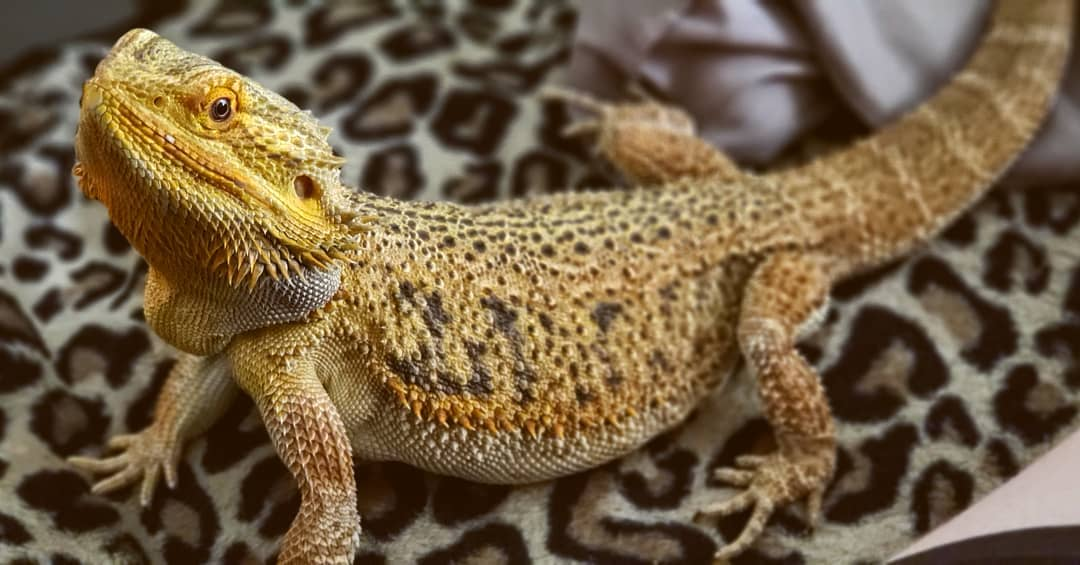bearded: (68, 1, 1073, 565)
